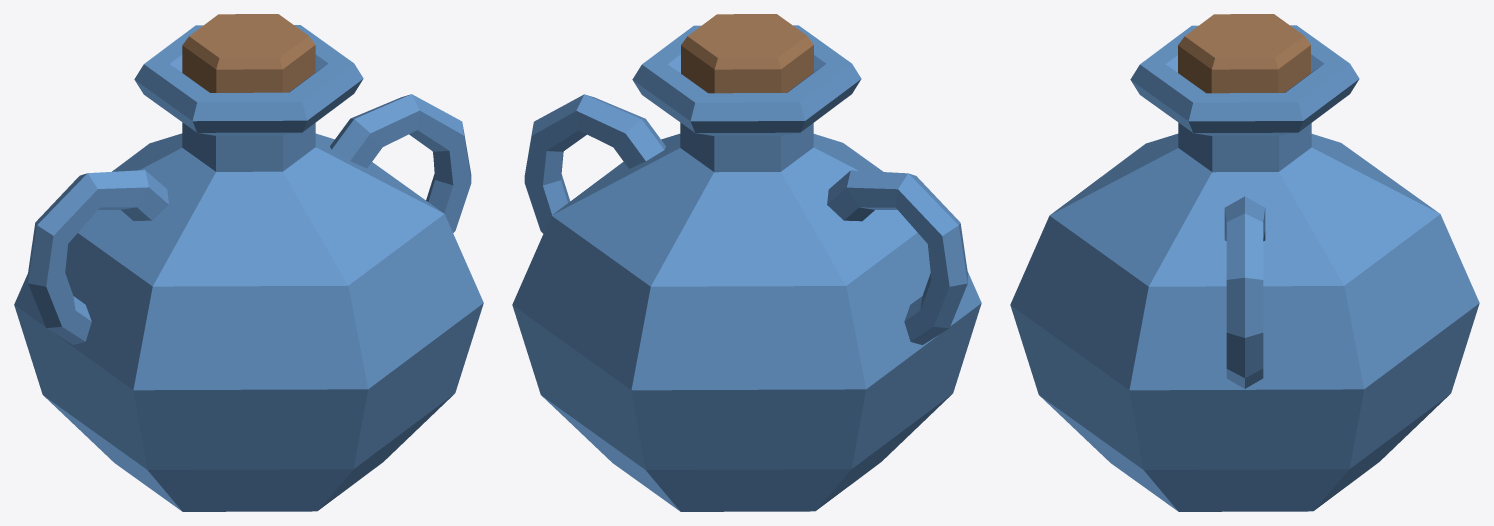
The model's file is Blue_Potion_9(Doubke-Handle).fbx.
3 renders of one model, left to right at view 1: azimuth 30°, elevation 25°; view 2: azimuth 150°, elevation 25°; view 3: azimuth 270°, elevation 25°, orthographic.
Parts seen in each view (by area): view 1: Blue_Potion_9(Doubke-Handle); view 2: Blue_Potion_9(Doubke-Handle); view 3: Blue_Potion_9(Doubke-Handle).
Part boxes in pixels (x1,y1,x2,y2): Blue_Potion_9(Doubke-Handle): (14,14,483,511); Blue_Potion_9(Doubke-Handle): (512,14,981,511); Blue_Potion_9(Doubke-Handle): (1010,14,1479,511).
Bounding box in the file's own units: 22.59 × 20.77 × 20.73.
